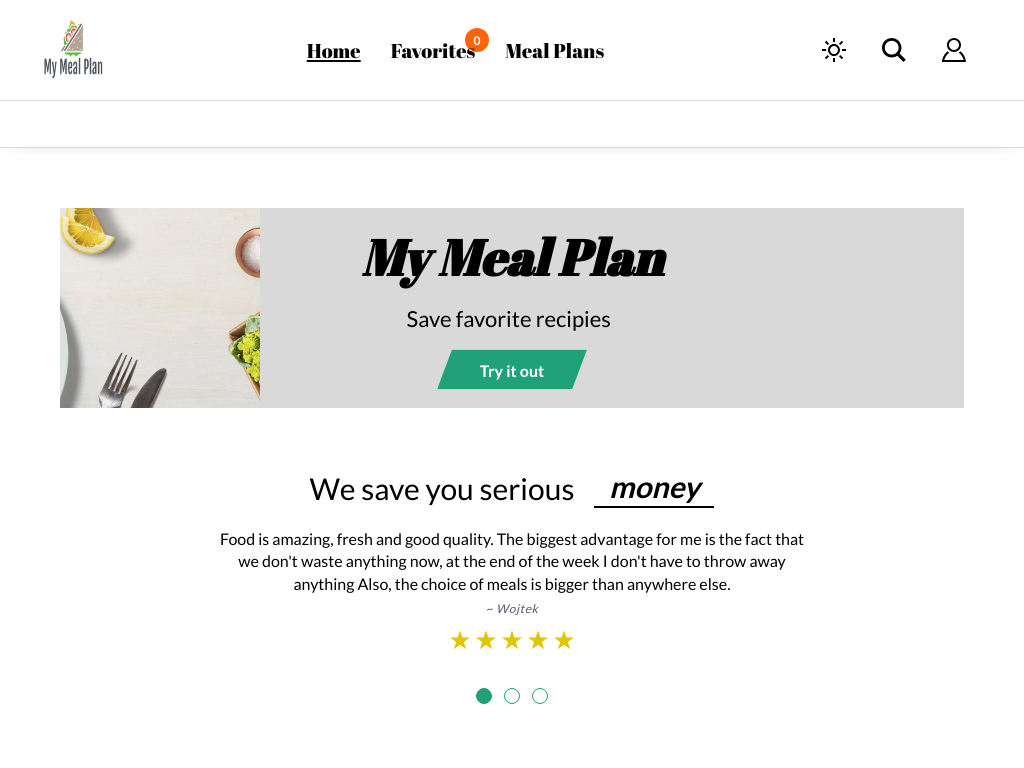
Scenario: Searchbar › should open when user clicks on search SVG and close when user clicks on background
The width and height of the screenshot is (1024, 768).
Click the button named "search" at (894, 50), box x1=864 y1=0 x2=924 y2=100
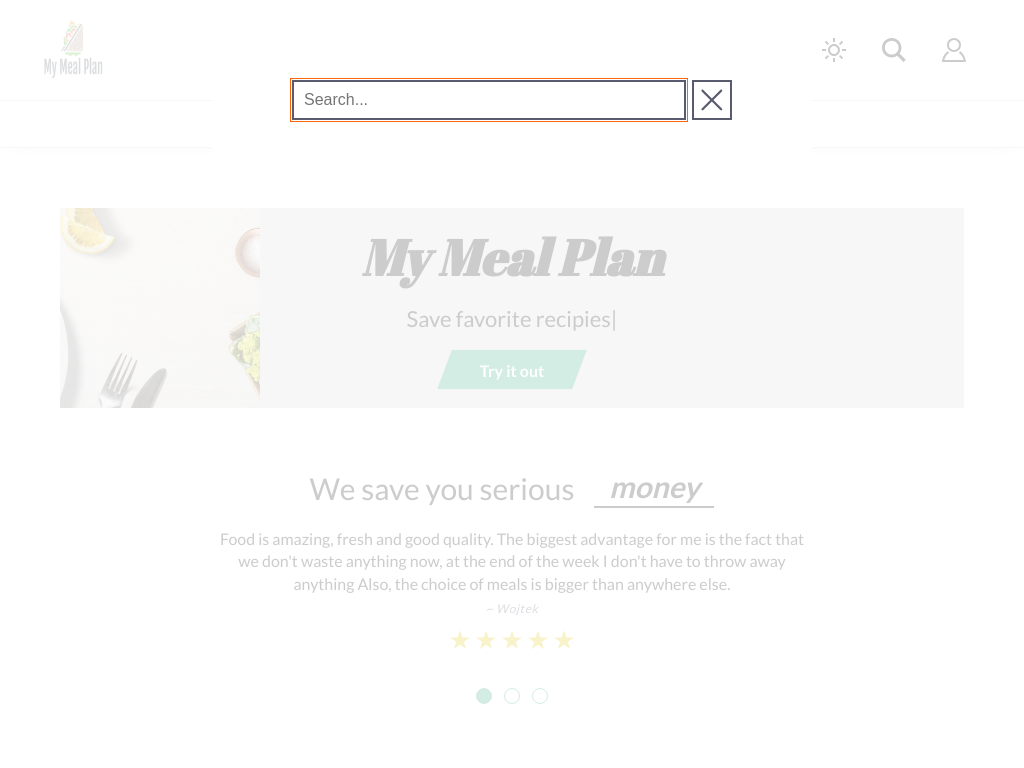
Click the button named "close a modal" at (512, 384), box x1=0 y1=0 x2=1023 y2=767
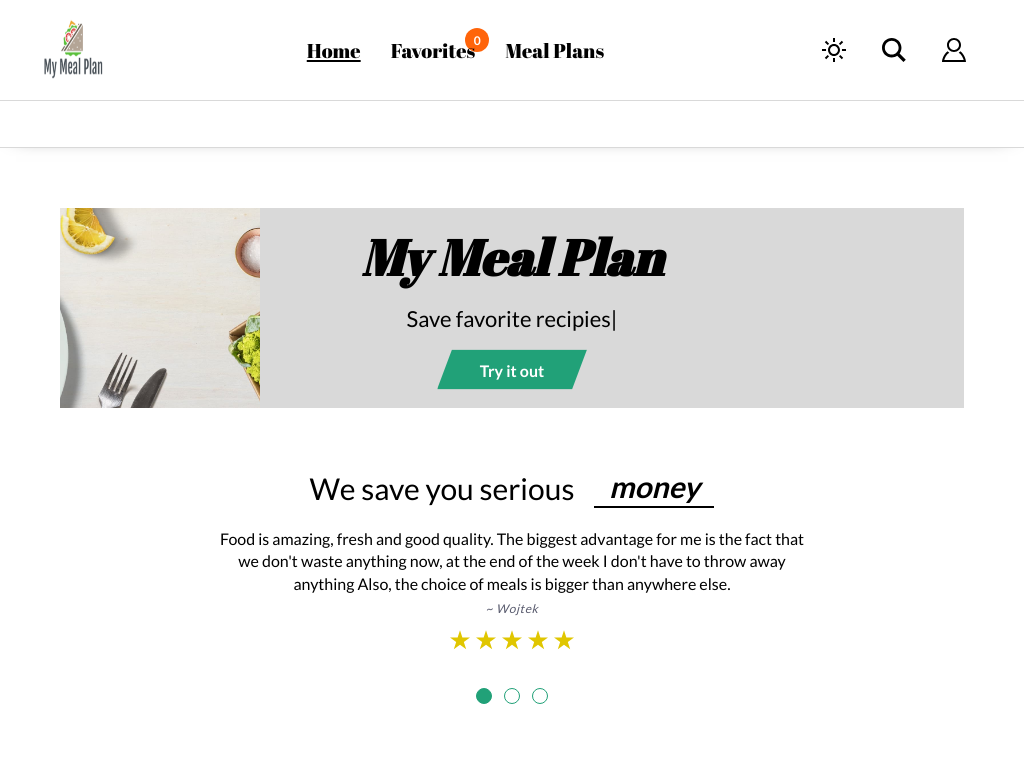
Expected: the field with placeholder "Search..." is gone
